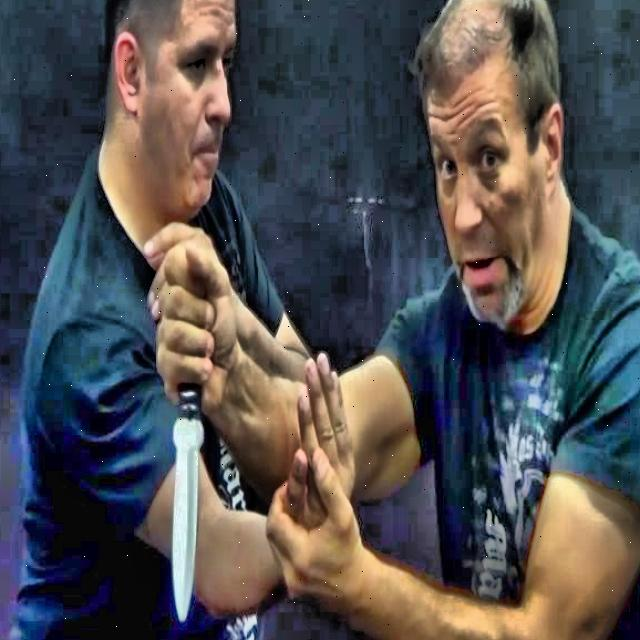knife: (172, 387, 202, 621)
